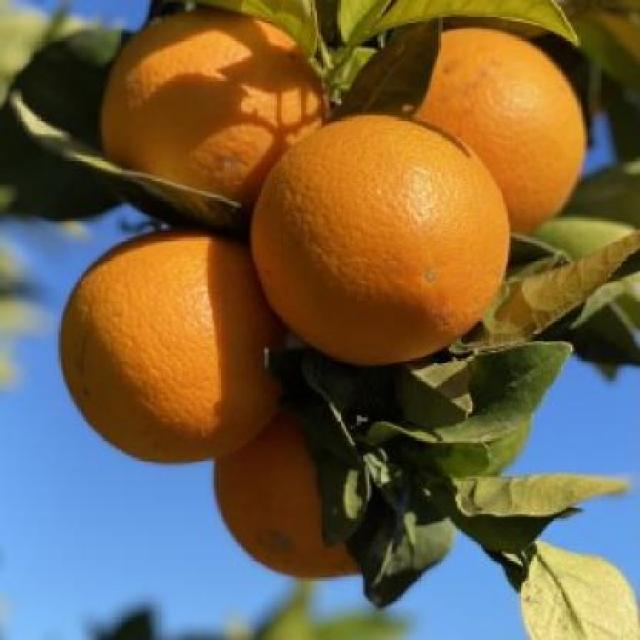Orange: (248, 111, 510, 366), (57, 228, 283, 463), (97, 8, 328, 209), (212, 411, 363, 578)
